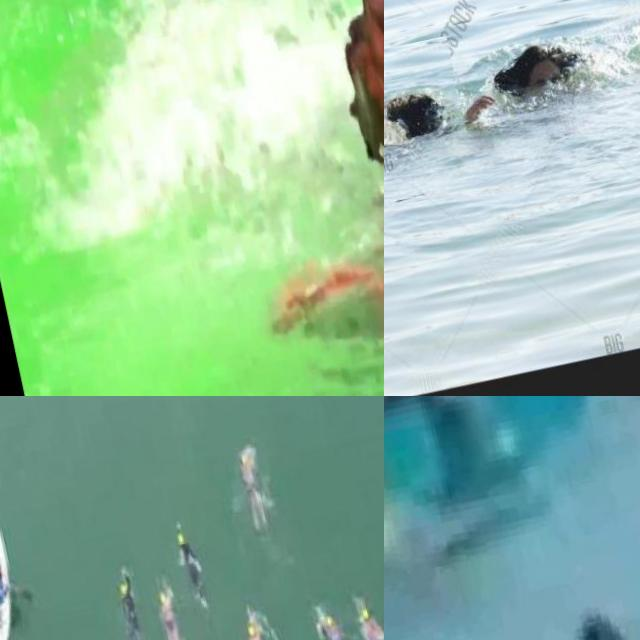drowning: (457, 0, 640, 127), (384, 35, 468, 161), (549, 590, 640, 640)
swimming: (264, 0, 384, 308), (310, 590, 365, 640), (350, 577, 384, 640), (237, 605, 290, 640)
